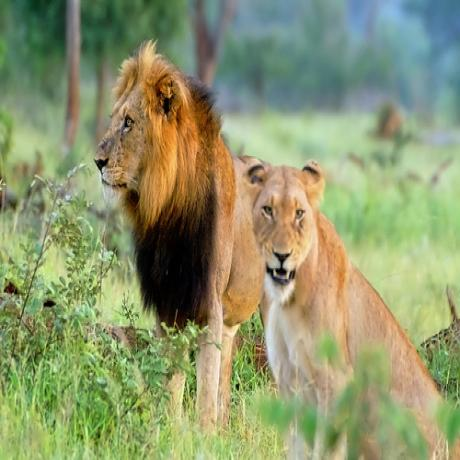Lion: (93, 42, 271, 421), (243, 158, 453, 446)
